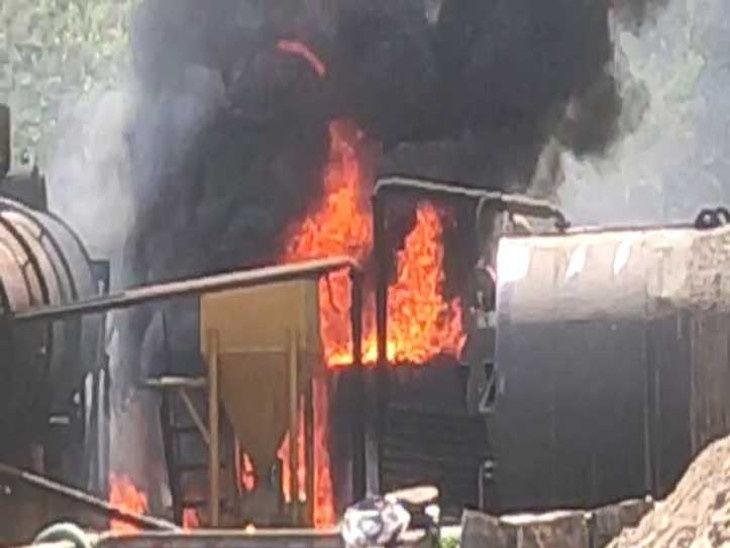Fire: (239, 123, 472, 385), (99, 468, 153, 527)
